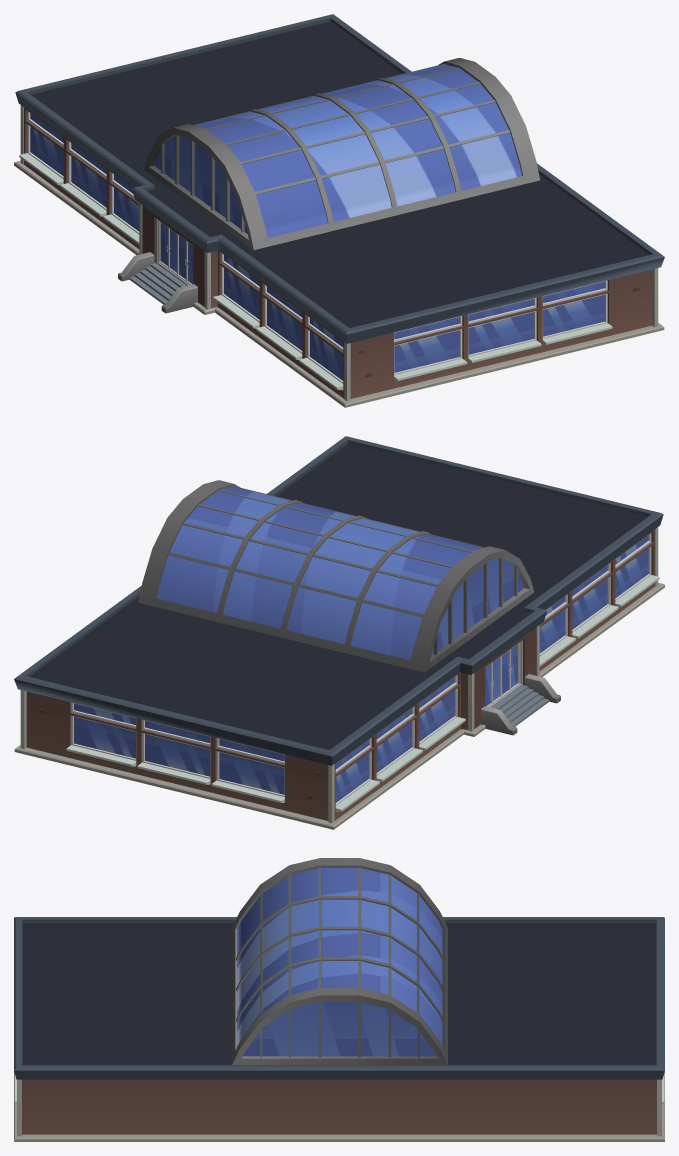
The model's file is Building_16_2_C.fbx.
The picture shows the model from 3 angles, top to bottom: view 1: azimuth 30°, elevation 25°; view 2: azimuth 150°, elevation 25°; view 3: azimuth 270°, elevation 25°; orthographic projection.
Parts seen in each view (by area): view 1: Building_16_2_C; view 2: Building_16_2_C; view 3: Building_16_2_C.
Part boxes in pixels (x1,y1,x2,y2): Building_16_2_C: (14,14,664,407); Building_16_2_C: (14,436,664,829); Building_16_2_C: (14,858,664,1141).
Size of the model in its own units: 1888 by 718 by 3026.
